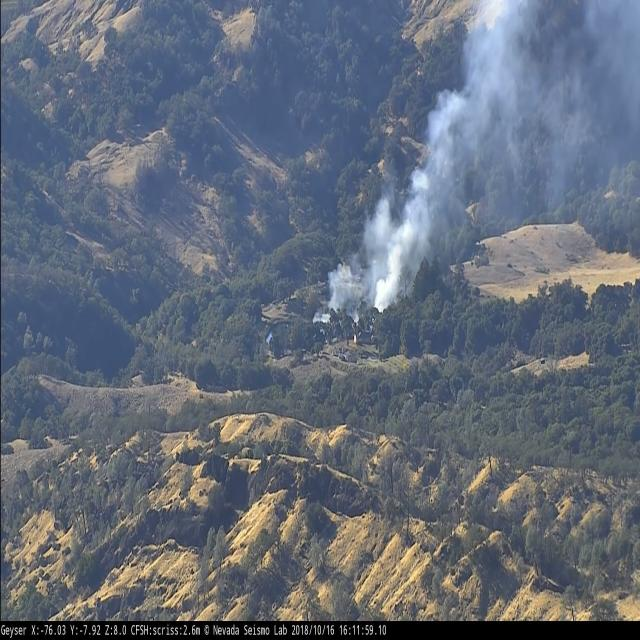smoke: (309, 0, 640, 327)
